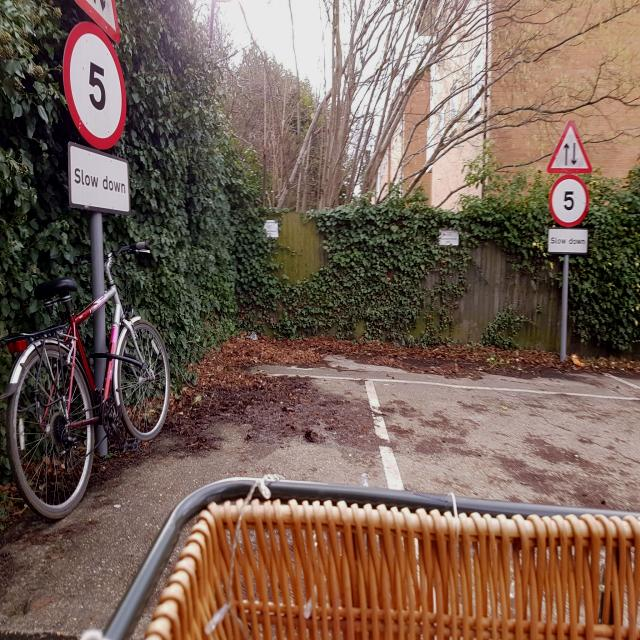bike: (10, 255, 172, 530)
